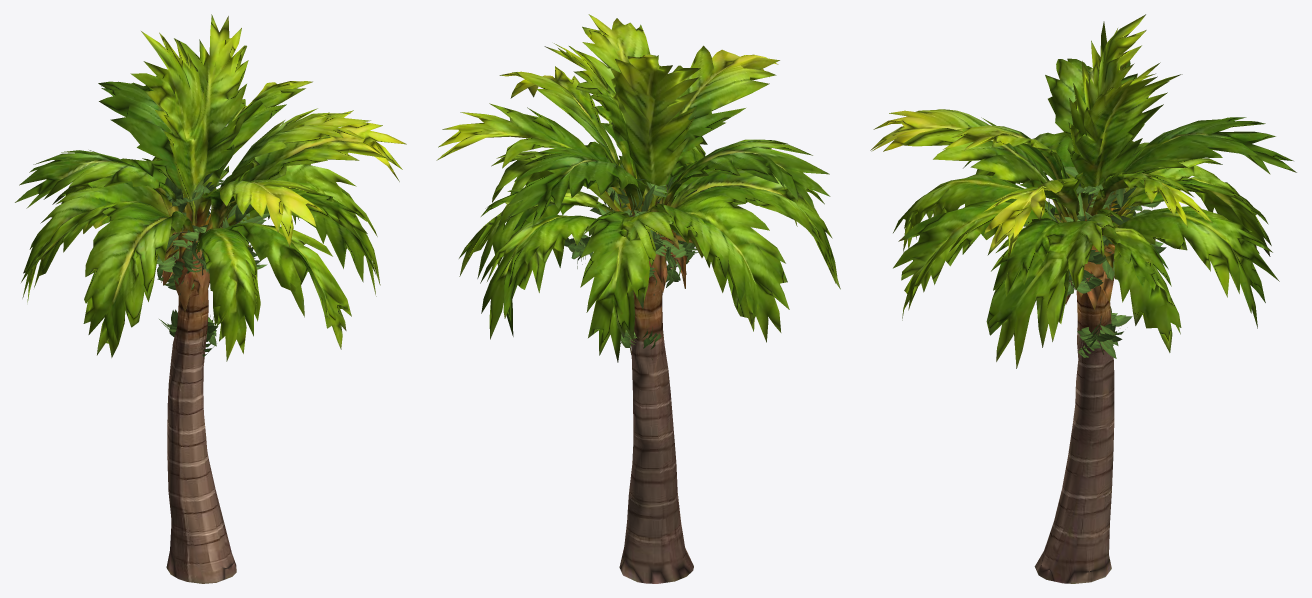
Rendered from palm-date-near.glb.
3 views of the same model, side by side, from view 1: azimuth 30°, elevation 25°; view 2: azimuth 150°, elevation 25°; view 3: azimuth 270°, elevation 25° (orthographic). The views are drawn at different scales.
Parts seen in each view (by area): view 1: Foliage, Wood; view 2: Foliage, Wood; view 3: Foliage, Wood.
Part boxes in pixels (x1,y1,x2,y2): Foliage: (15,14,406,363); Wood: (161,200,251,583); Foliage: (436,14,840,362); Wood: (610,187,693,583); Foliage: (870,14,1296,368); Wood: (1034,193,1131,583).
Bounding box in the file's own units: 8.41 × 12 × 8.6.
2 materials, 2 textured.
